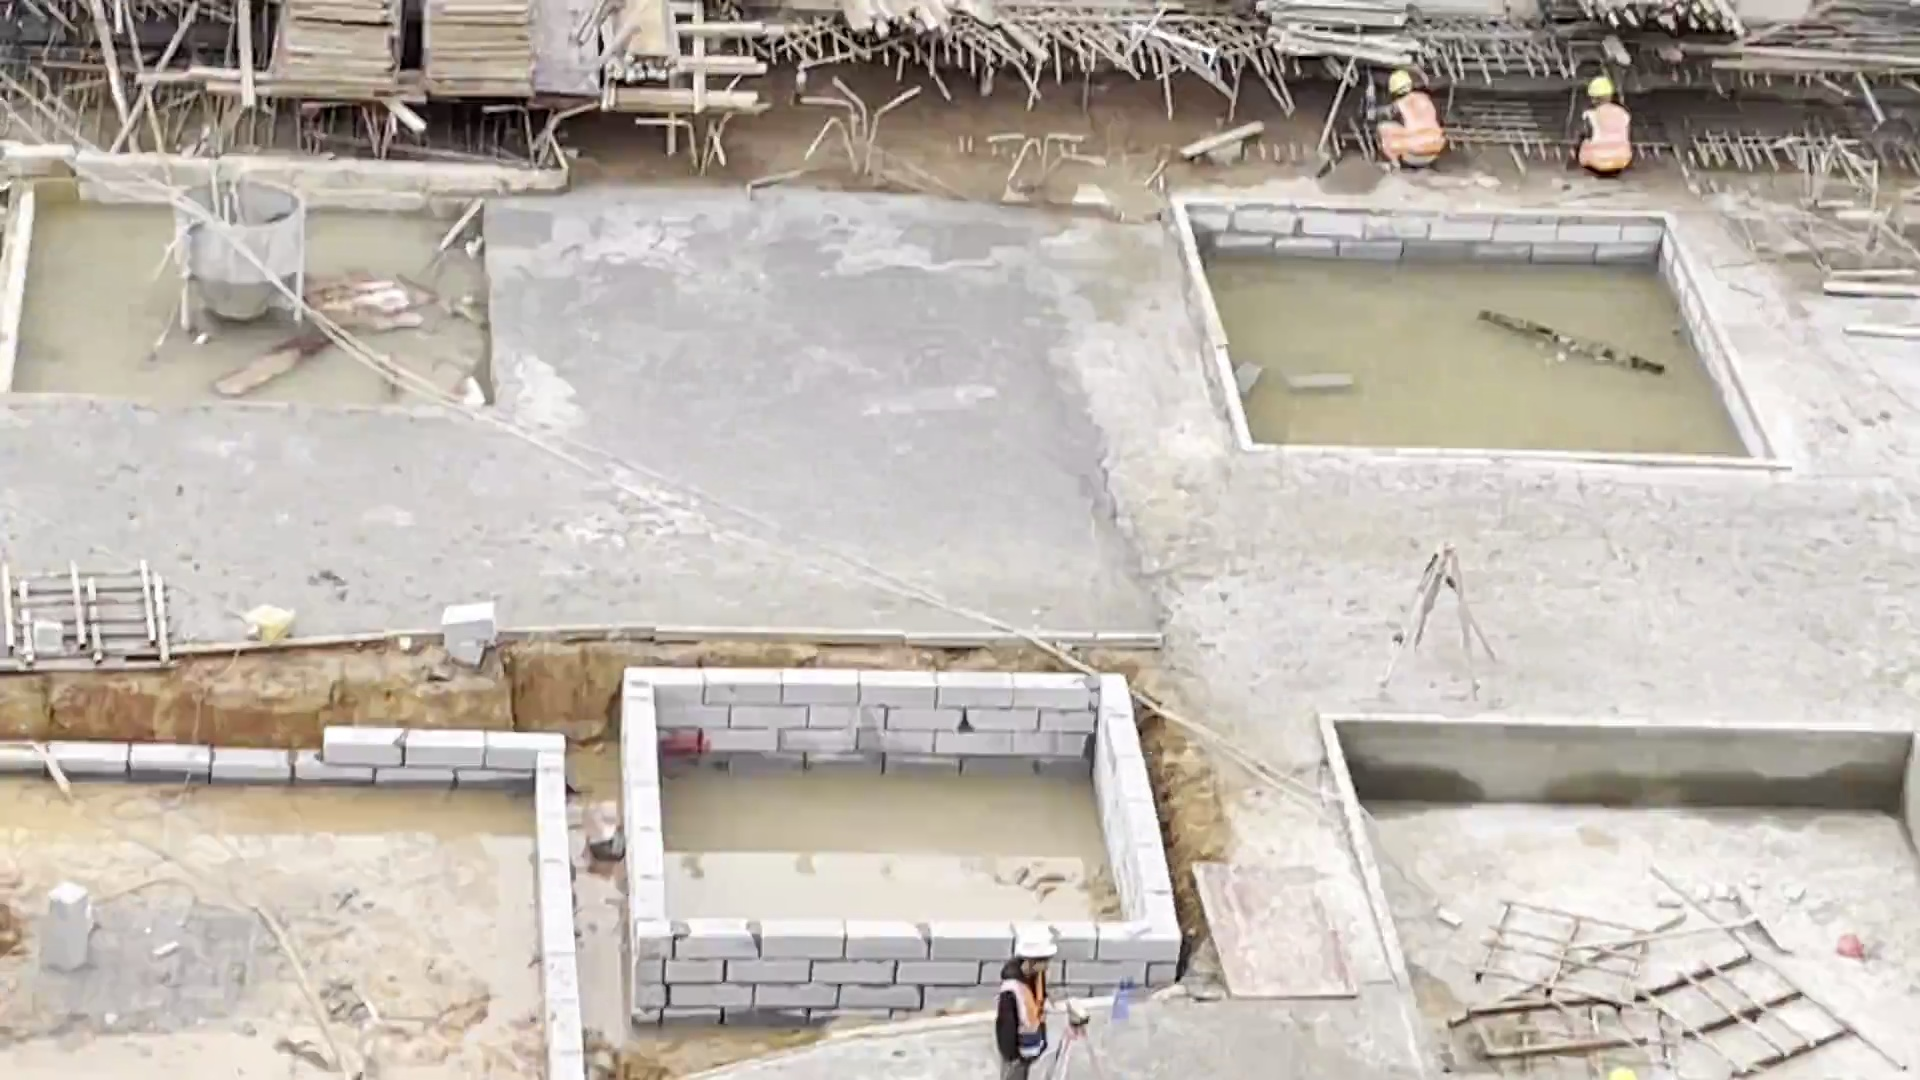helmet: (1004, 918, 1068, 971), (1383, 68, 1423, 91), (1587, 73, 1617, 96)
person: (995, 927, 1068, 1080), (1572, 72, 1642, 181), (1379, 71, 1448, 178)
vest: (1570, 104, 1645, 177), (1001, 977, 1059, 1054), (1385, 91, 1449, 154)
